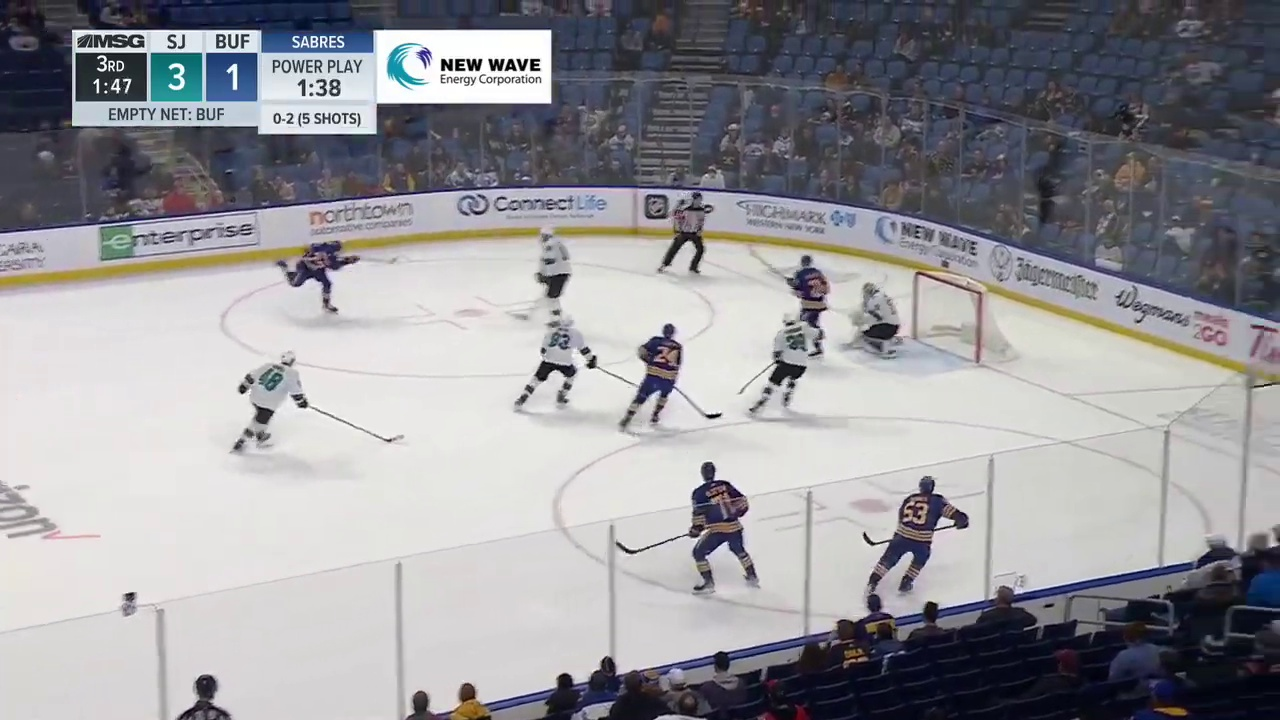goalie: (849, 281, 903, 359)
hockeyplayer: (864, 476, 970, 597), (690, 461, 760, 597), (229, 350, 309, 454), (748, 312, 825, 417), (514, 314, 596, 410), (618, 323, 683, 430), (277, 240, 359, 314), (787, 256, 830, 360), (534, 225, 572, 328)
referee: (657, 192, 706, 274), (175, 674, 233, 720)
